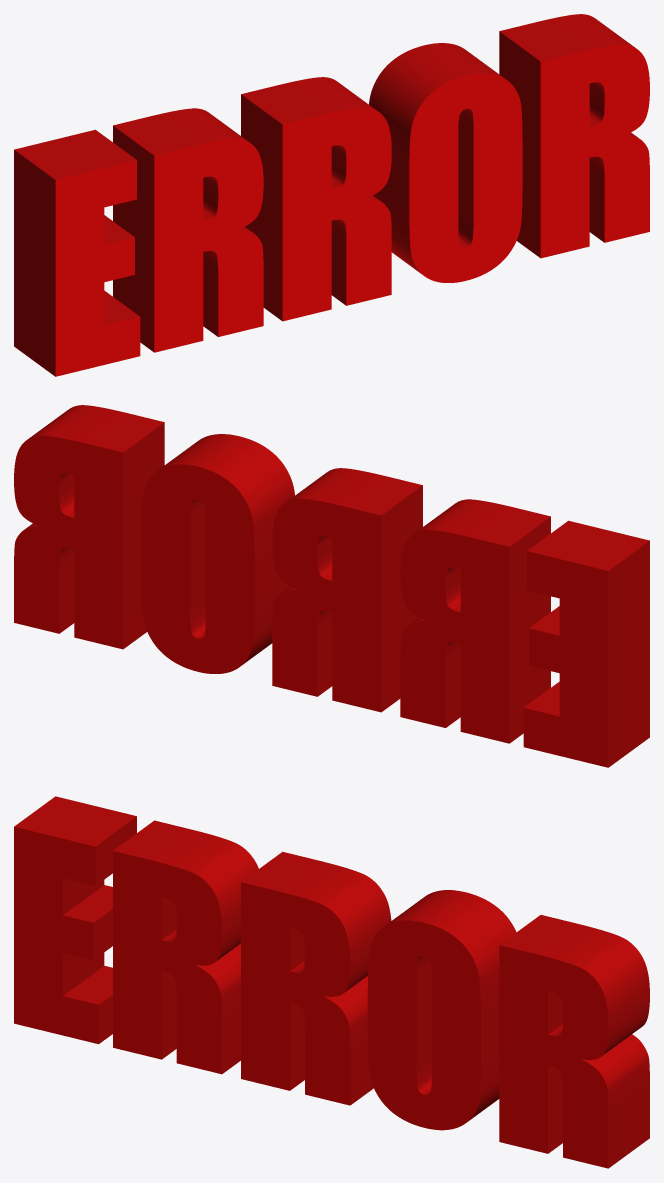
File: error.fbx
3 views of the same model, one above another, from view 1: azimuth 30°, elevation 25°; view 2: azimuth 150°, elevation 25°; view 3: azimuth 330°, elevation 25° (orthographic).
Parts seen in each view (by area): view 1: Text; view 2: Text; view 3: Text.
Boxes of the visible parts, left/top/right/bottom form: Text: left=14, top=14, right=649, bottom=376; Text: left=14, top=405, right=649, bottom=767; Text: left=14, top=796, right=649, bottom=1168.
Bounding box in the file's own units: 167 × 54.97 × 20.18.
